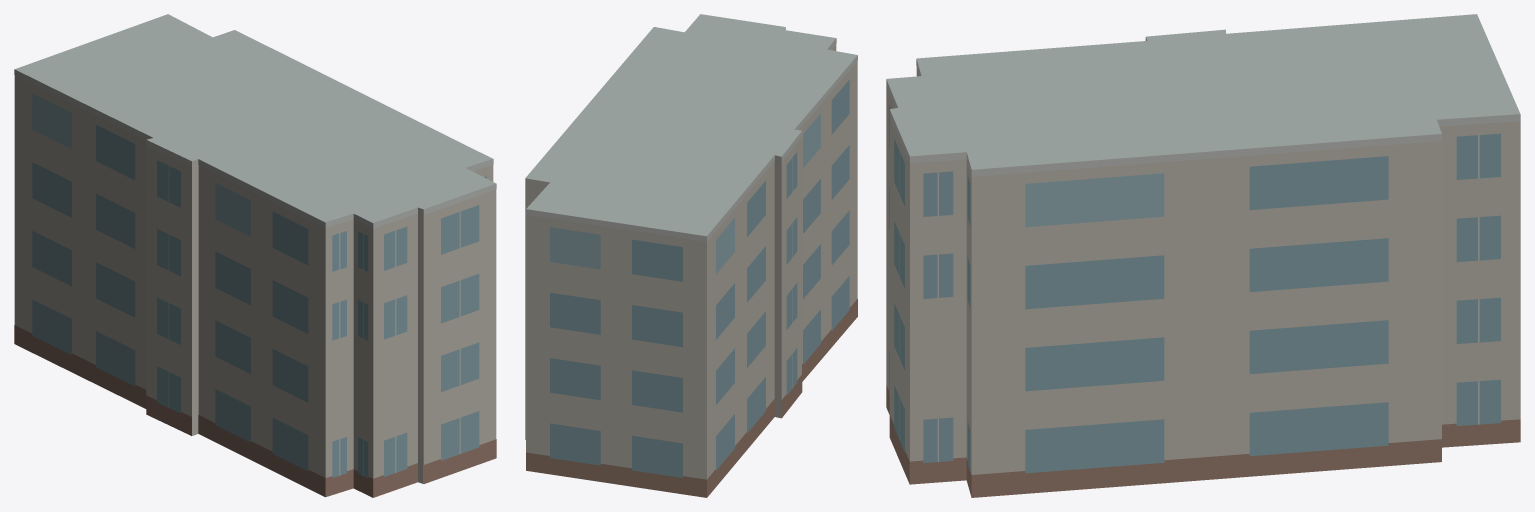
Rendered from survey-upis-32979368.glb.
3 views of the same model, side by side, from view 1: azimuth 30°, elevation 25°; view 2: azimuth 150°, elevation 25°; view 3: azimuth 270°, elevation 25° (orthographic). The views are drawn at different scales.
Parts seen in each view (by area): view 1: survey-upis-32979368.tmp; view 2: survey-upis-32979368.tmp; view 3: survey-upis-32979368.tmp.
Boxes of the visible parts, <box> form: survey-upis-32979368.tmp: <box>14,14,496,497</box>; survey-upis-32979368.tmp: <box>525,14,857,497</box>; survey-upis-32979368.tmp: <box>886,14,1520,497</box>.
Size of the model in its own units: 11.72 by 11.5 by 20.16.
